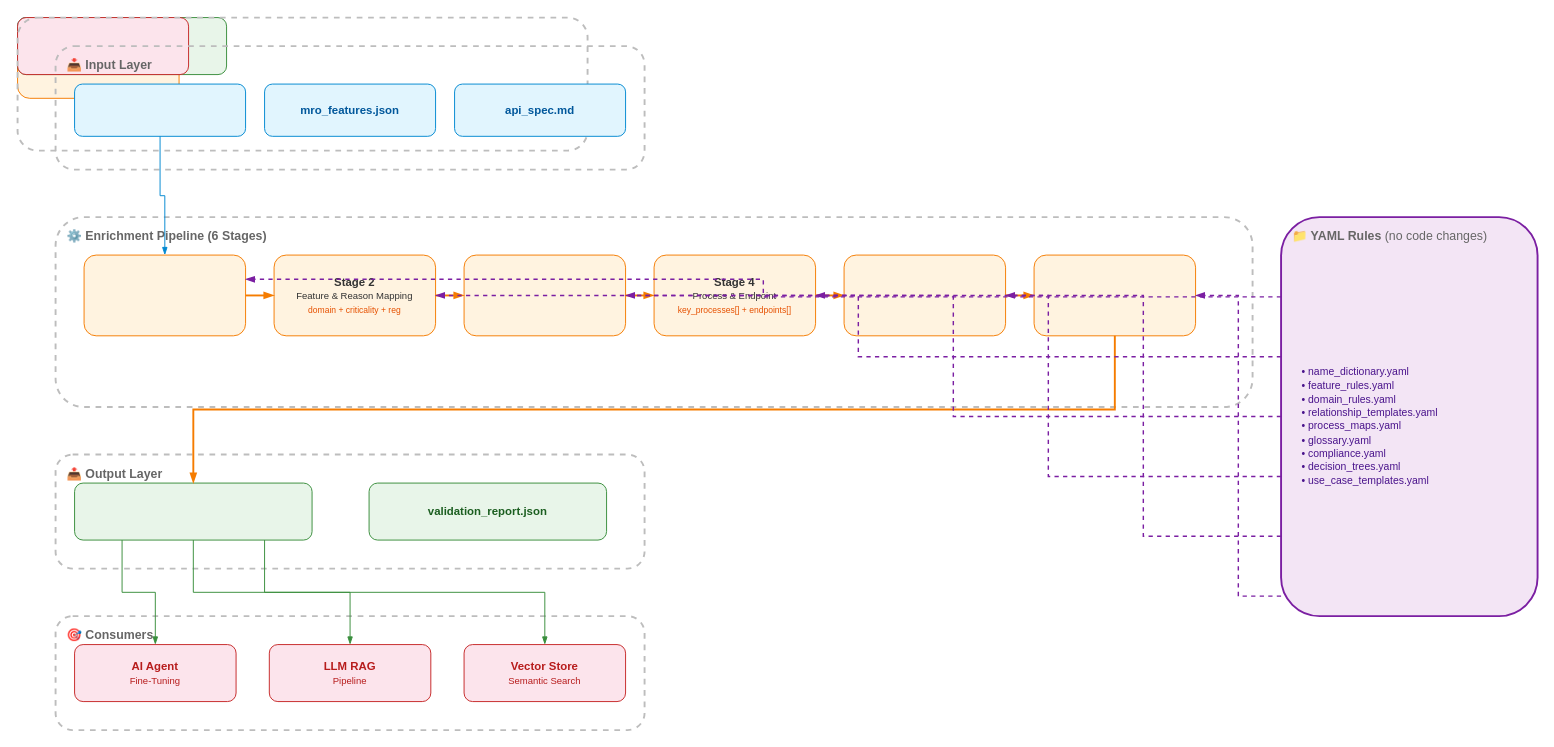
Some shapes in this 1554 by 747 pixel diagram are drawn without their labels. Here are the shapes that lost their labels. From the top down, the centre of each, then its label:
point 160,109: raw_metadata.json
point 164,295: Stage 1 Name Enrichment dictionary → pattern → fallback
point 544,295: Stage 3 Relationship Discovery FK → business meaning
point 924,295: Stage 5 Glossary & Compliance keyword tagging + reg refs
point 1114,295: Stage 6 Use Case & Decision Gen scenarios + rules + alerts
point 193,511: enriched_metadata.json
